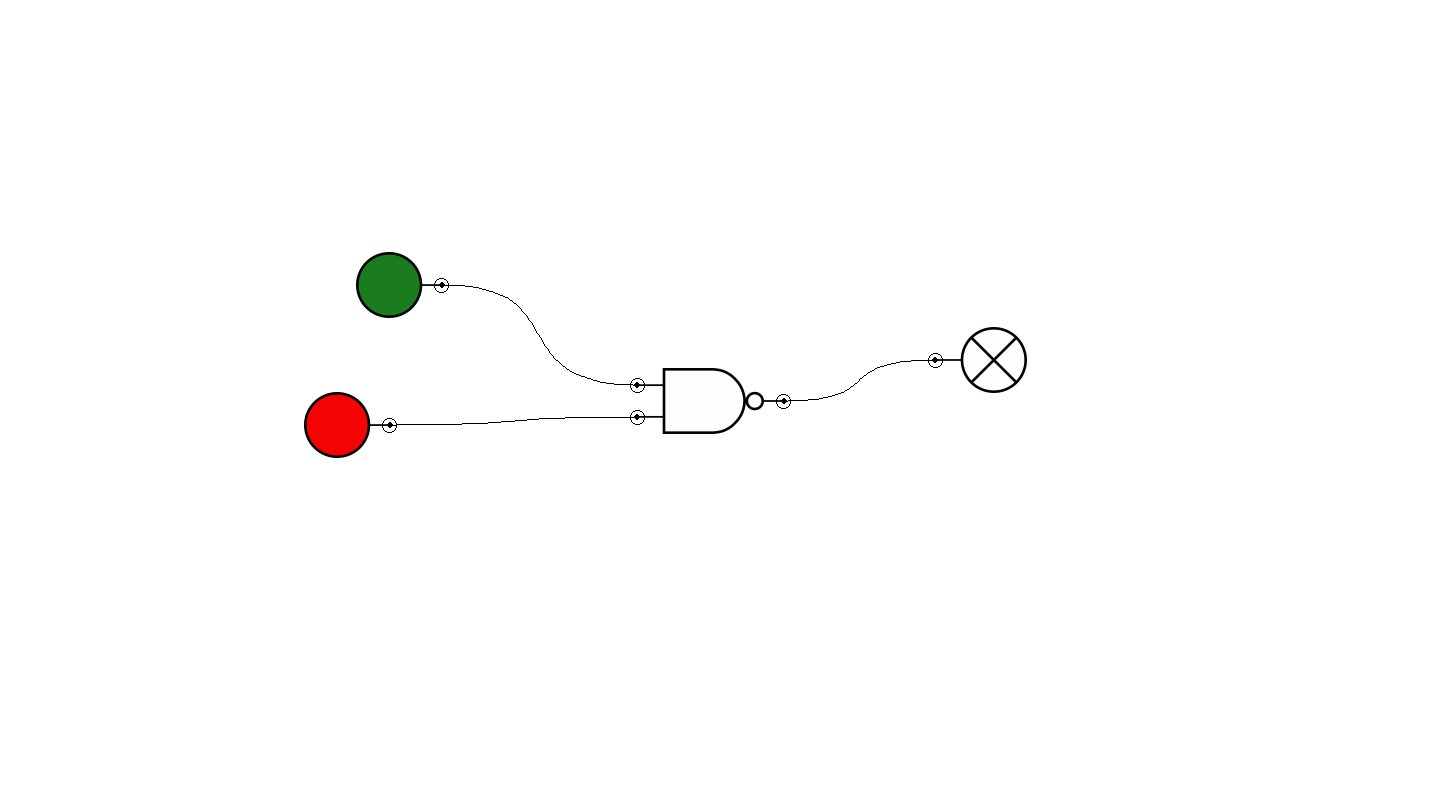bulb: (928, 327, 1027, 393)
nand: (630, 368, 791, 434)
switch_False: (304, 392, 397, 458)
switch_True: (356, 252, 449, 318)
